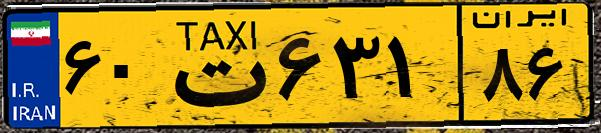0: (110, 28, 158, 98)
1: (385, 28, 445, 110)
3: (330, 28, 385, 110)
6: (270, 28, 330, 110), (57, 26, 110, 100), (525, 38, 570, 115)
8: (475, 38, 525, 113)
ت: (158, 12, 270, 120)
